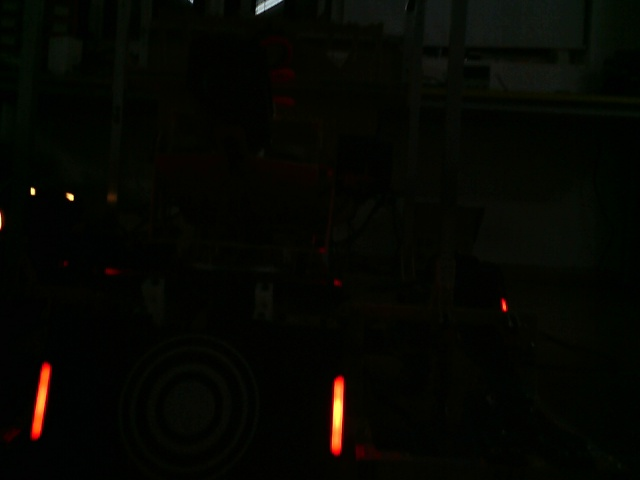lamp: (28, 353, 53, 442), (330, 371, 345, 456)
